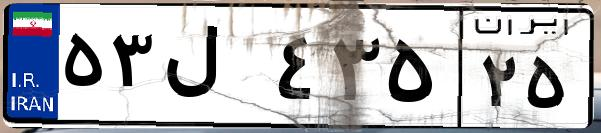2: (475, 38, 525, 113)
3: (330, 28, 385, 110), (110, 28, 158, 98)
4: (270, 28, 330, 110)
5: (385, 28, 445, 110), (57, 26, 110, 100), (525, 38, 570, 115)
ل: (158, 20, 270, 120)
